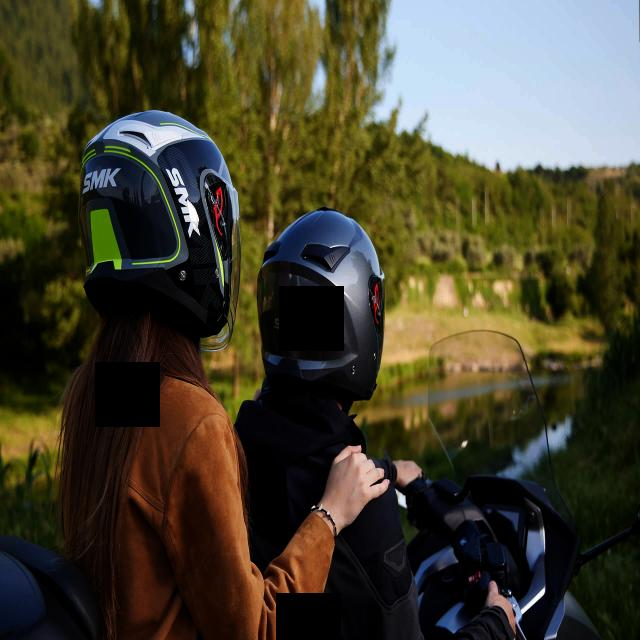Helmet: (79, 111, 240, 351), (258, 206, 385, 400)
